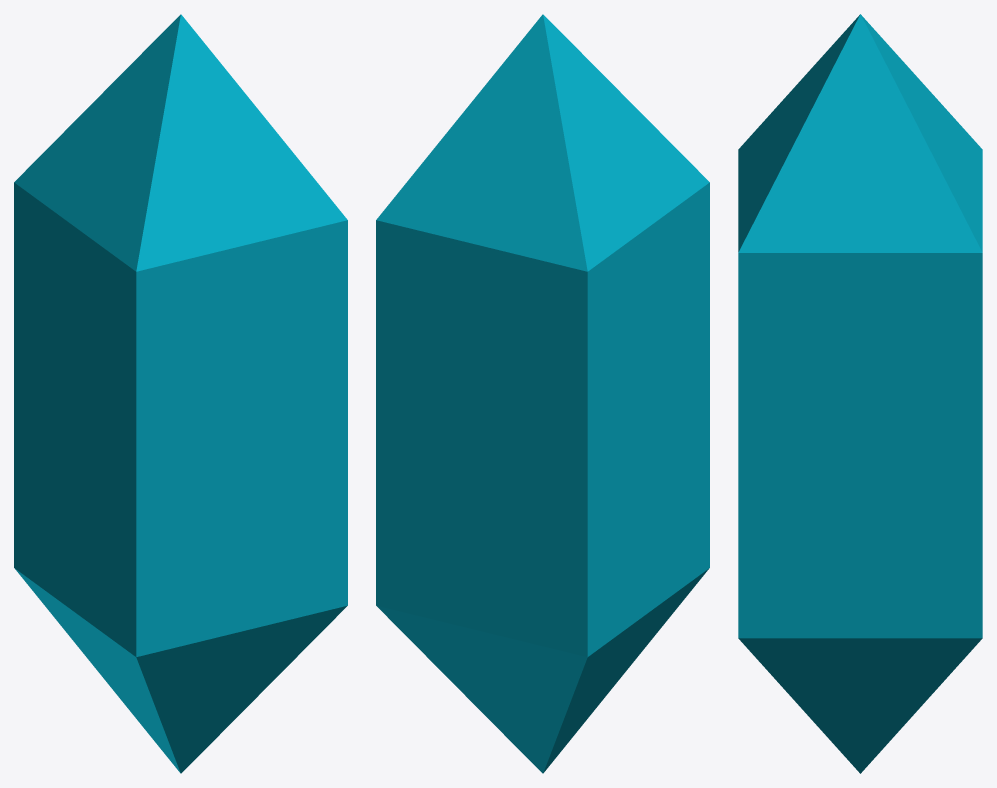
File: treasure7ButtonText.obj
3 renders of one model, left to right at view 1: azimuth 30°, elevation 25°; view 2: azimuth 150°, elevation 25°; view 3: azimuth 270°, elevation 25°, orthographic.
Parts seen in each view (by area): view 1: treasure7ButtonText; view 2: treasure7ButtonText; view 3: treasure7ButtonText.
Boxes of the visible parts, left/top/right/bottom form: treasure7ButtonText: left=14, top=14, right=347, bottom=773; treasure7ButtonText: left=376, top=14, right=709, bottom=773; treasure7ButtonText: left=738, top=14, right=982, bottom=773.
Bounding box in the file's own units: 0.2169 × 0.7443 × 0.2169.
